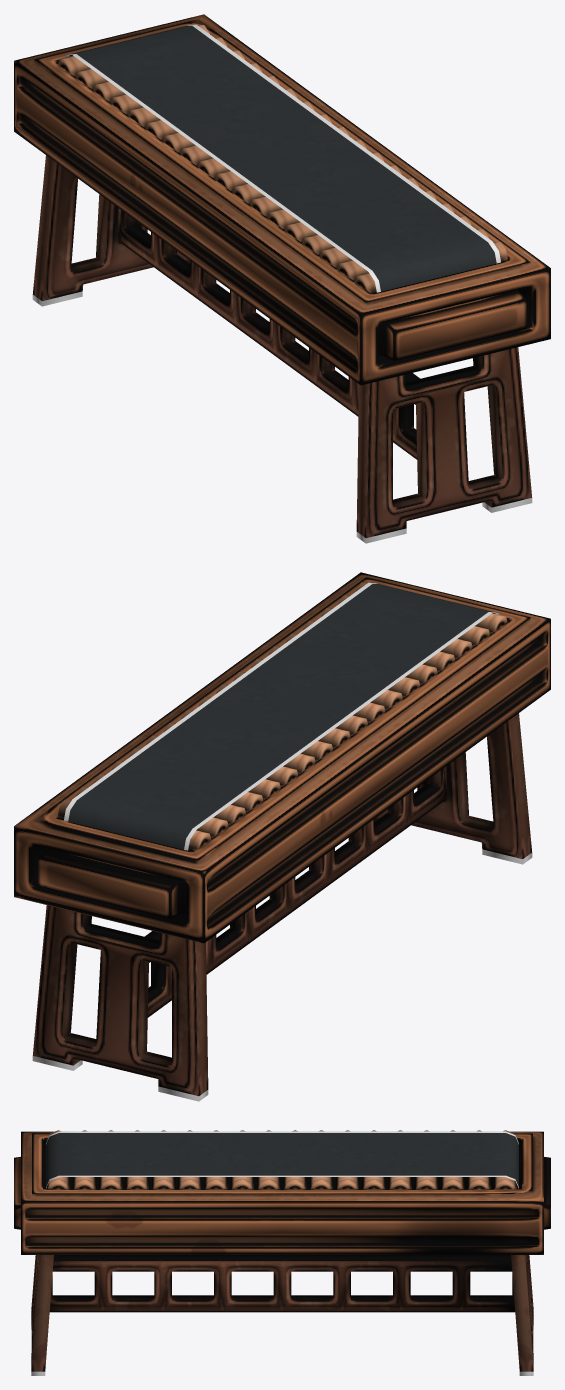
File: conveyorBelt.fbx
The picture shows the model from 3 angles, top to bottom: view 1: azimuth 30°, elevation 25°; view 2: azimuth 150°, elevation 25°; view 3: azimuth 270°, elevation 25°; orthographic projection. The views are drawn at different scales.
Parts seen in each view (by area): view 1: conveyorBelt; view 2: conveyorBelt; view 3: conveyorBelt.
Part boxes in pixels (x1,y1,x2,y2): conveyorBelt: (14,14,550,543); conveyorBelt: (14,572,550,1101); conveyorBelt: (14,1130,550,1375).
Bounding box in the file's own units: 200 × 255 × 649.
